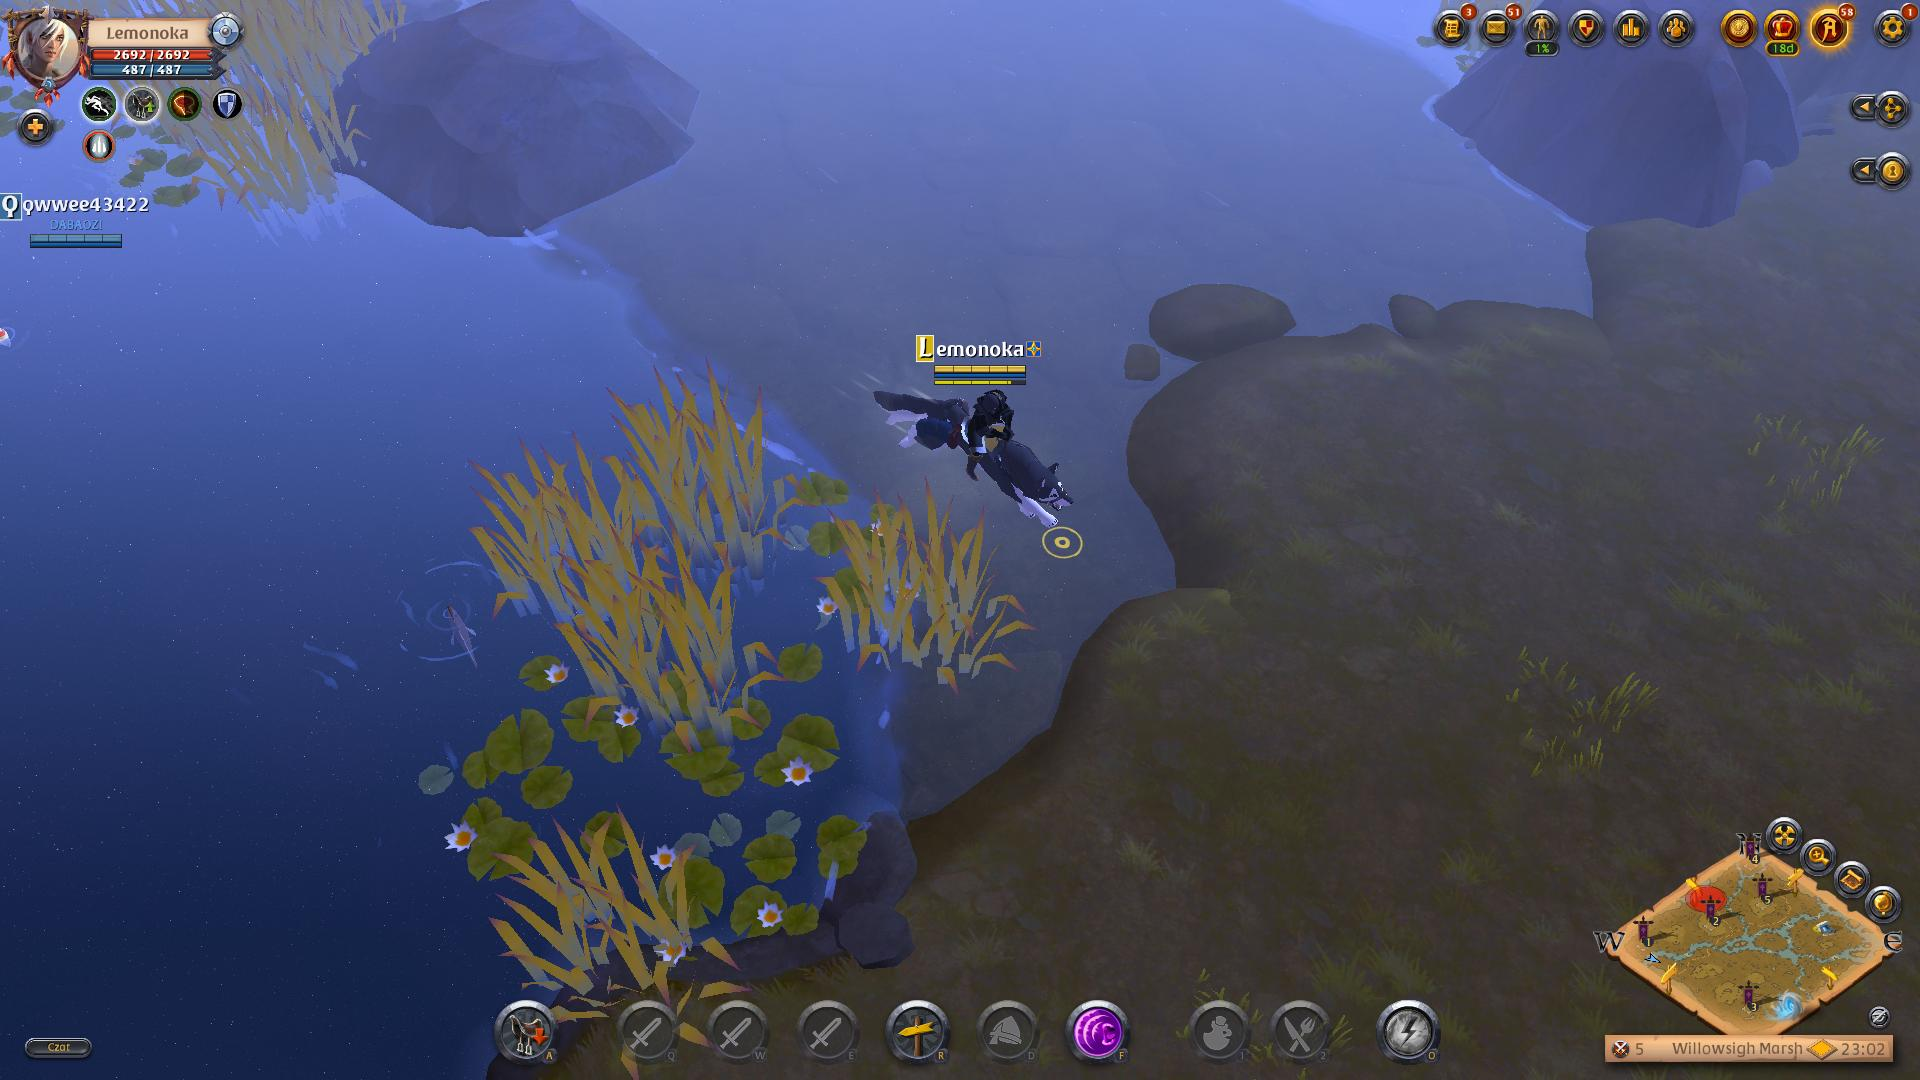fish: (385, 550, 506, 680)
